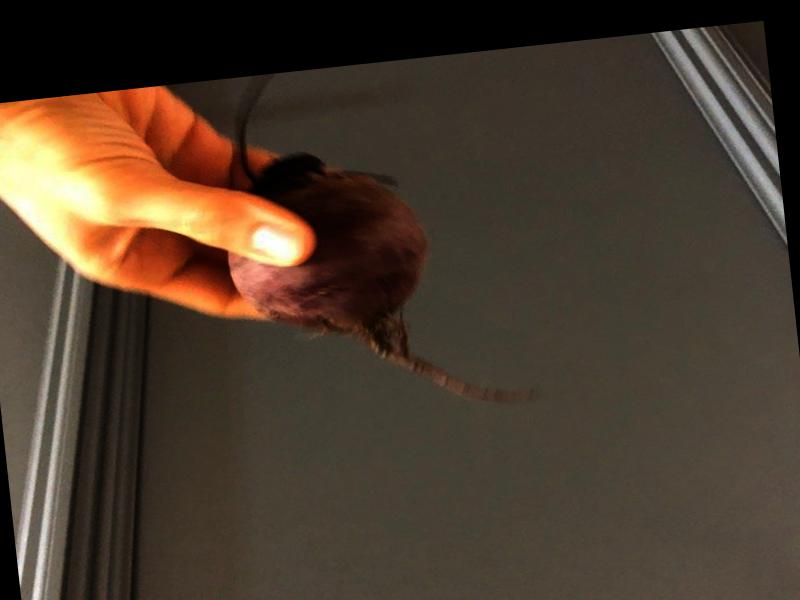Beet: (209, 48, 544, 431)
